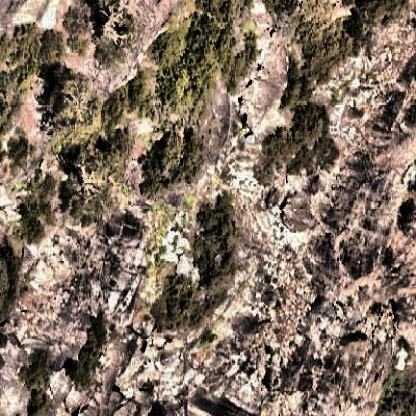tree-top: (59, 153, 124, 218), (43, 74, 105, 138), (85, 1, 145, 64)
